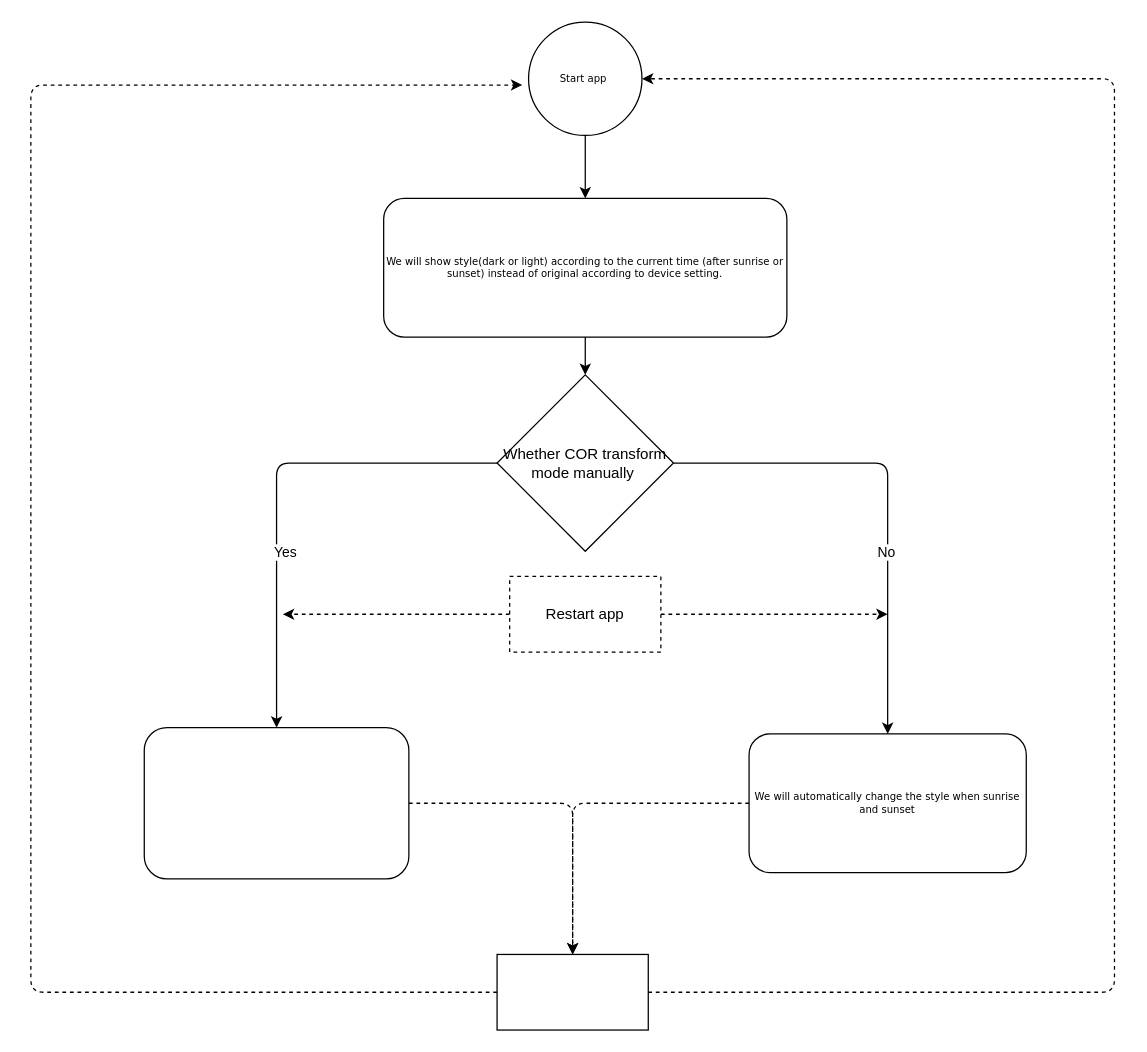
The diagram is 1147 pixels wide and 1052 high, and some of its shapes have lost their labels. The shapes that lost their labels are listed below. From the top down, each one's box as (x1, y1, x2, y2) in pixels, then its label:
(143, 726, 409, 879): Always show the style according to the COR operation result
(496, 953, 648, 1030): Logout
